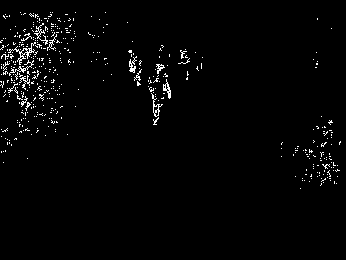person: (148, 65, 171, 126)
